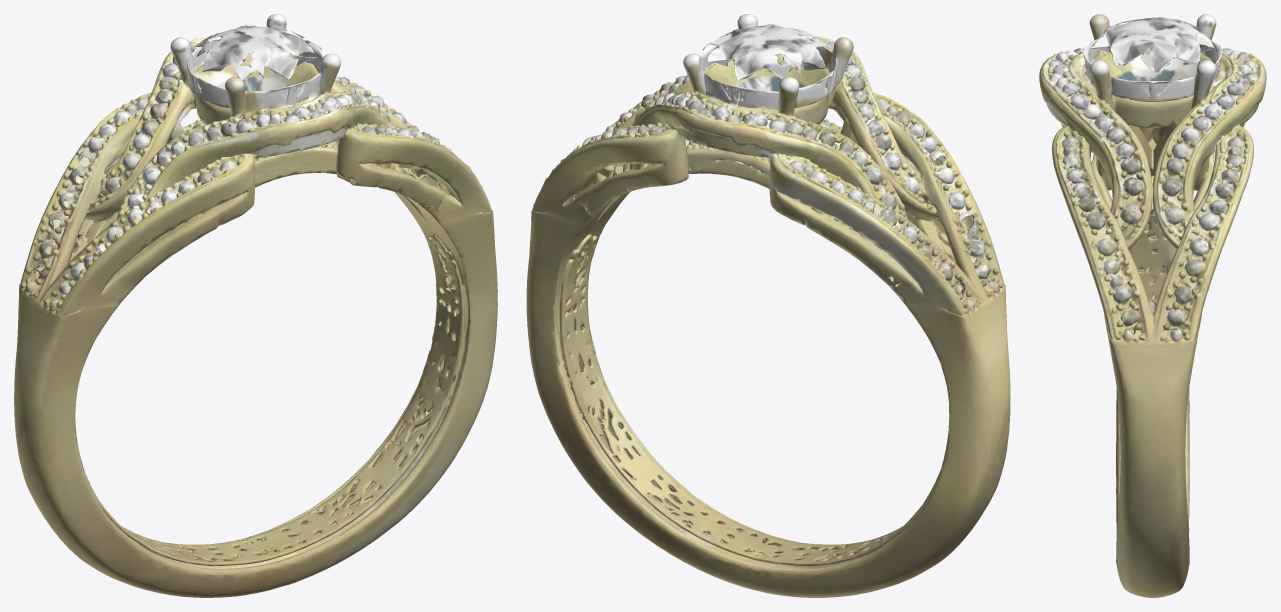
Rendered from jewel_diamond.glb.
The picture shows the model from 3 angles, left to right: view 1: azimuth 30°, elevation 25°; view 2: azimuth 150°, elevation 25°; view 3: azimuth 270°, elevation 25°; orthographic projection.
Visible parts, largest first — view 1: geometry_0; view 2: geometry_0; view 3: geometry_0.
Boxes of the visible parts, x1,y1,x2,y2 form: geometry_0: (14,14,497,597); geometry_0: (526,14,1010,597); geometry_0: (1039,14,1266,597).
Size of the model in its own units: 0.8998 by 1 by 0.3828.
Materials: 1 (1 with a texture image).
